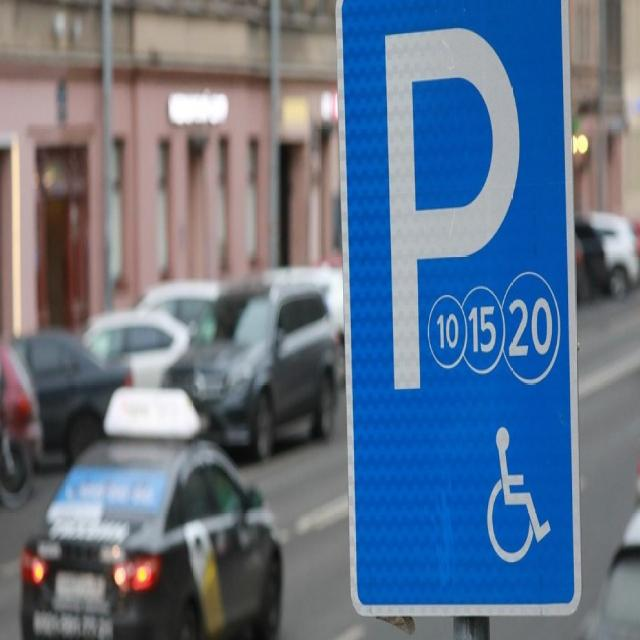parking: (363, 6, 567, 422)
